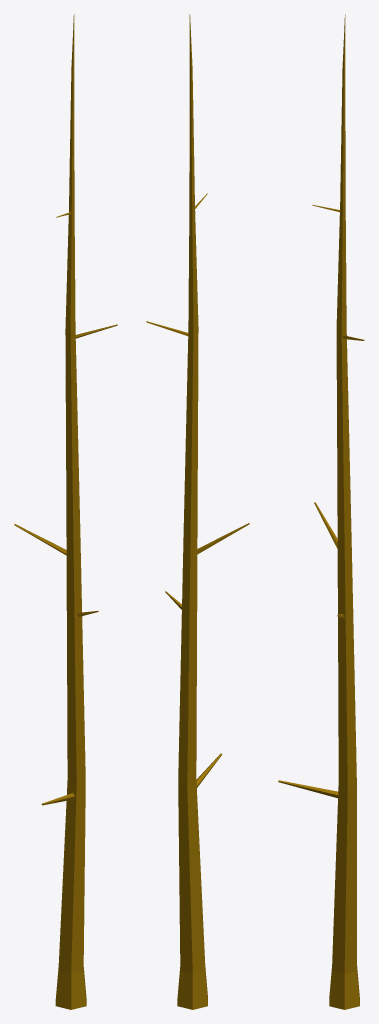
The model's file is Vegetation_Modular_Tree_Trunk_Fir_01.fbx.
3 views of the same model, side by side, from view 1: azimuth 30°, elevation 25°; view 2: azimuth 210°, elevation 25°; view 3: azimuth 330°, elevation 25° (orthographic).
Parts seen in each view (by area): view 1: Vegetation_Modular_Tree_Trunk_Fir_01; view 2: Vegetation_Modular_Tree_Trunk_Fir_01; view 3: Vegetation_Modular_Tree_Trunk_Fir_01.
Part boxes in pixels (x1=…): Vegetation_Modular_Tree_Trunk_Fir_01: x1=14, y1=14, x2=117, y2=1009; Vegetation_Modular_Tree_Trunk_Fir_01: x1=146, y1=14, x2=249, y2=1009; Vegetation_Modular_Tree_Trunk_Fir_01: x1=278, y1=14, x2=364, y2=1009.
Bounding box in the file's own units: 1125 × 13142 × 796.
